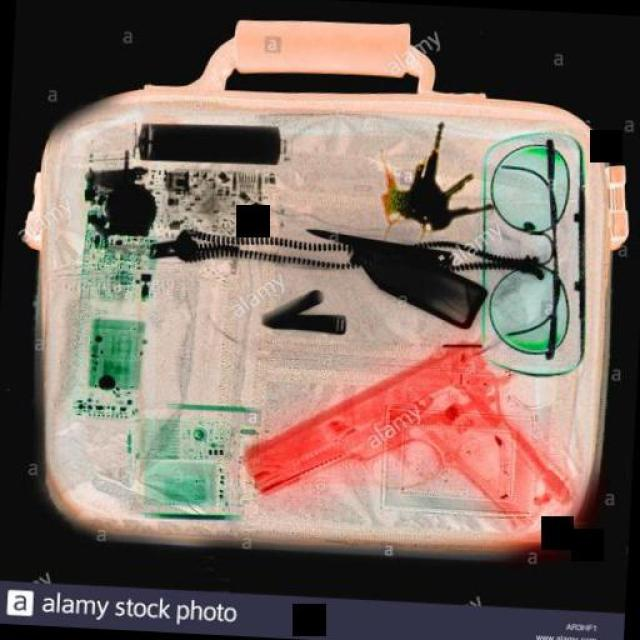gun: (247, 325, 588, 529)
